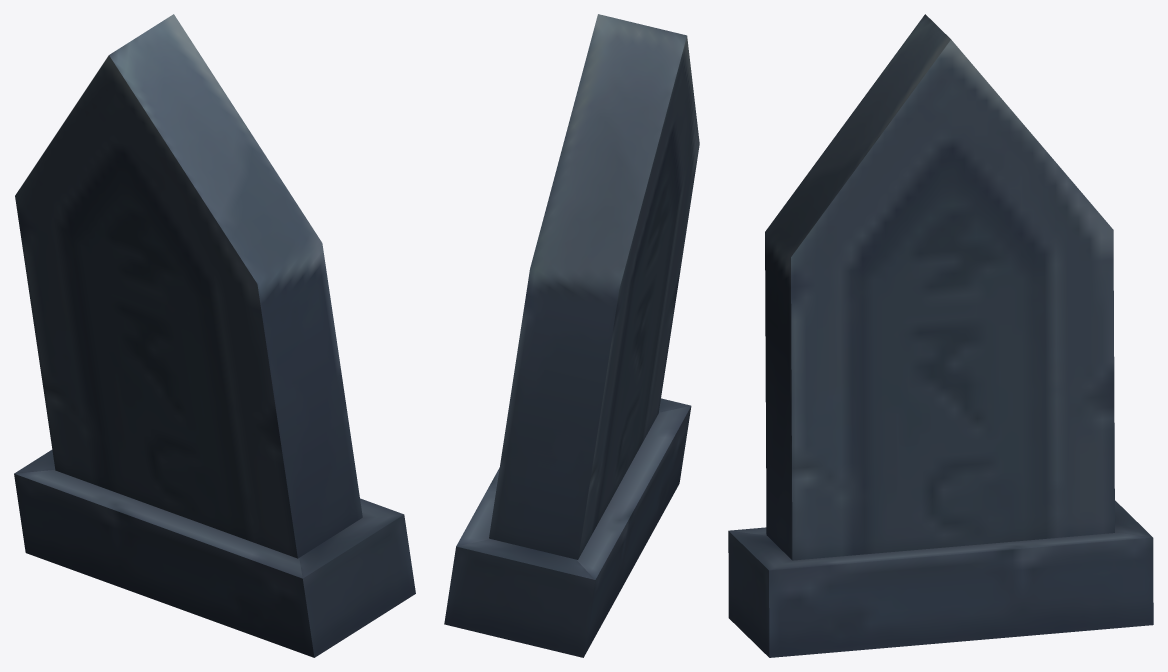
Rendered from Area_04_29.fbx.
3 views of the same model, side by side, from view 1: azimuth 30°, elevation 25°; view 2: azimuth 150°, elevation 25°; view 3: azimuth 270°, elevation 25° (orthographic). The views are drawn at different scales.
Parts seen in each view (by area): view 1: Area_04_29; view 2: Area_04_29; view 3: Area_04_29.
Boxes of the visible parts, bbox=[...] form: Area_04_29: bbox=[14, 14, 415, 657]; Area_04_29: bbox=[444, 14, 699, 657]; Area_04_29: bbox=[728, 14, 1153, 657].
Size of the model in its own units: 238 by 550 by 366.
